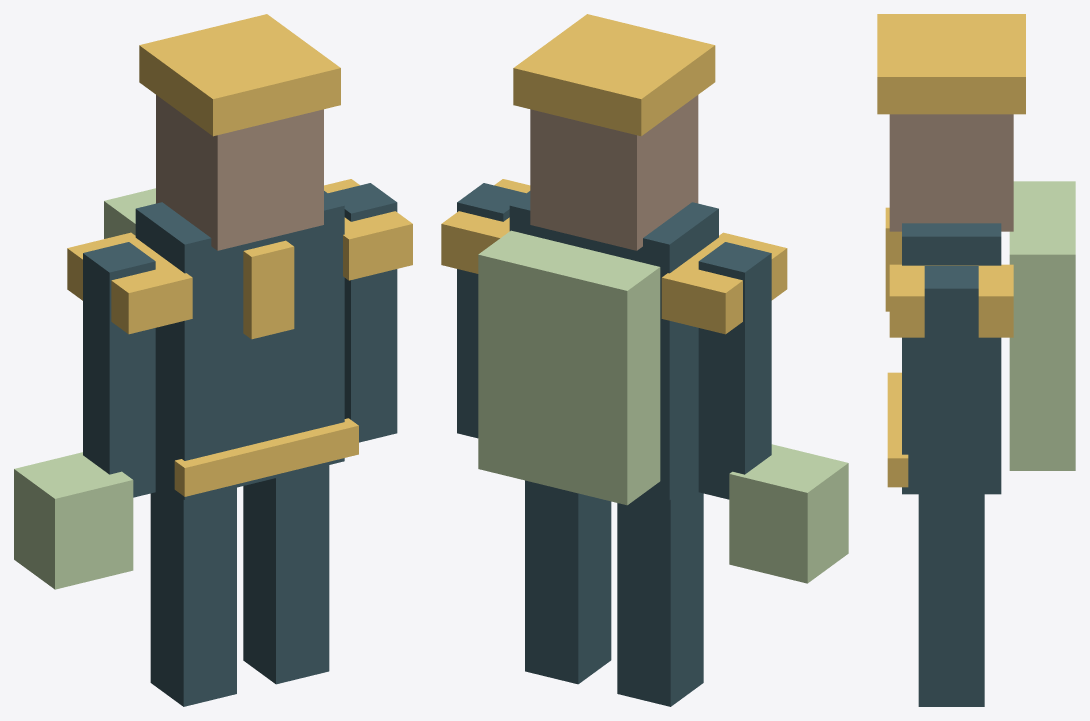
File: 14_orin_dubwater_runner_under_mycelial.glb
3 renders of one model, left to right at view 1: azimuth 30°, elevation 25°; view 2: azimuth 150°, elevation 25°; view 3: azimuth 270°, elevation 25°, orthographic.
Parts seen in each view (by area): view 1: Orin Dubwater, Runner under Mycelial; view 2: Orin Dubwater, Runner under Mycelial; view 3: Orin Dubwater, Runner under Mycelial.
Boxes of the visible parts, bbox=[...] form: Orin Dubwater, Runner under Mycelial: bbox=[14, 14, 412, 706]; Orin Dubwater, Runner under Mycelial: bbox=[441, 14, 848, 706]; Orin Dubwater, Runner under Mycelial: bbox=[877, 14, 1075, 706].
Size of the model in its own units: 0.9629 by 1.62 by 0.4645.
